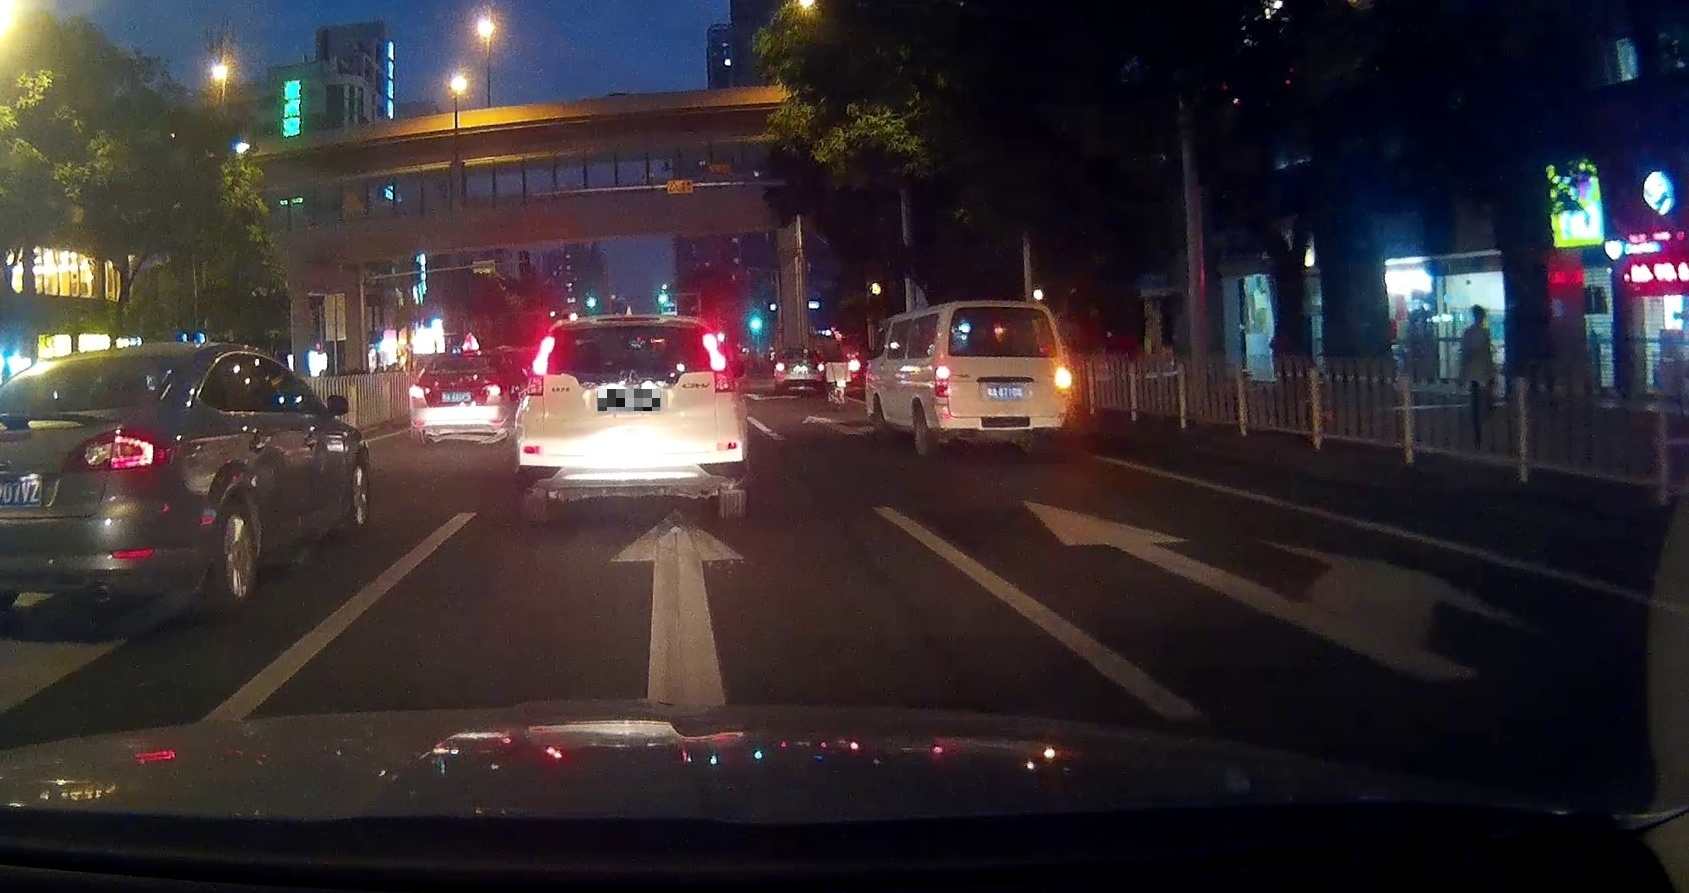L_light: (933, 365, 951, 399), (523, 376, 544, 396), (408, 384, 430, 400), (773, 361, 785, 372)
R_light: (715, 371, 738, 393), (1057, 365, 1072, 393), (481, 383, 502, 397), (814, 363, 826, 372)
T_light: (993, 307, 1017, 316), (626, 326, 647, 334), (462, 355, 475, 361), (796, 352, 807, 357)
night-no: (515, 315, 746, 519), (934, 300, 1072, 457), (408, 349, 506, 447), (773, 349, 826, 395)
plate_1: (598, 389, 660, 411)
